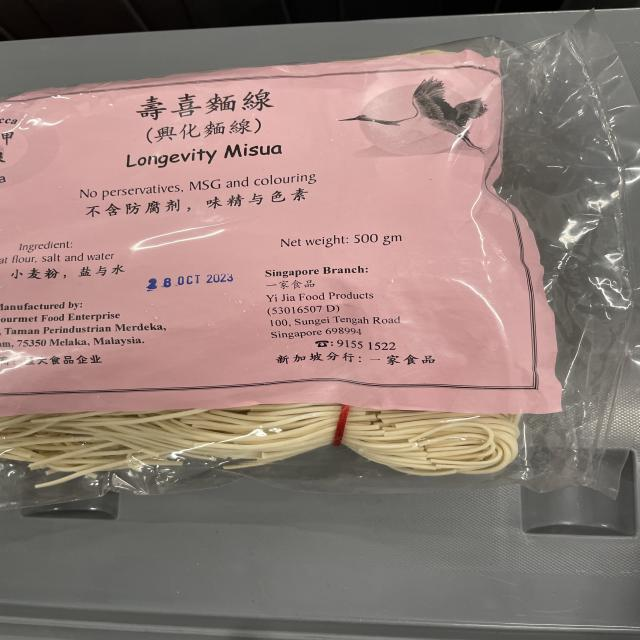object_name: (7, 71, 610, 489)
